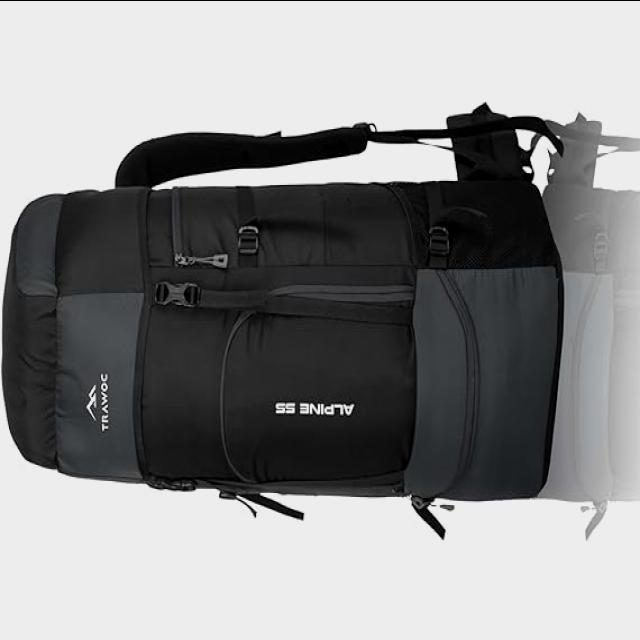backpack: (1, 91, 587, 558)
